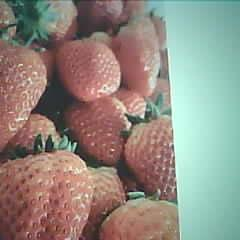straw-ripe: (1, 150, 93, 240), (58, 39, 120, 99)
